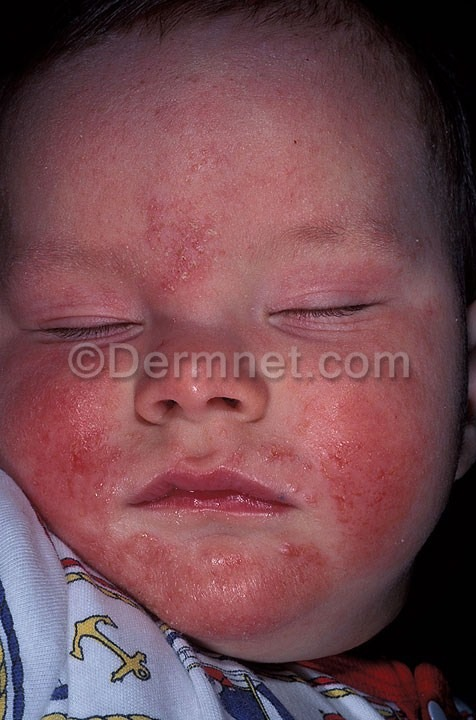Eczema: (36, 77, 435, 182), (311, 333, 465, 574), (122, 530, 341, 640), (3, 358, 110, 542), (143, 186, 236, 304), (214, 420, 316, 490)
